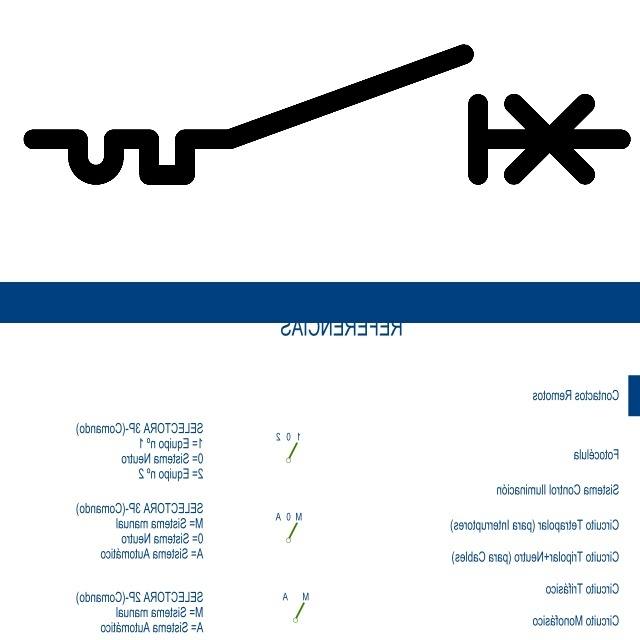interruptor_termomagnetico: (18, 39, 636, 190)
